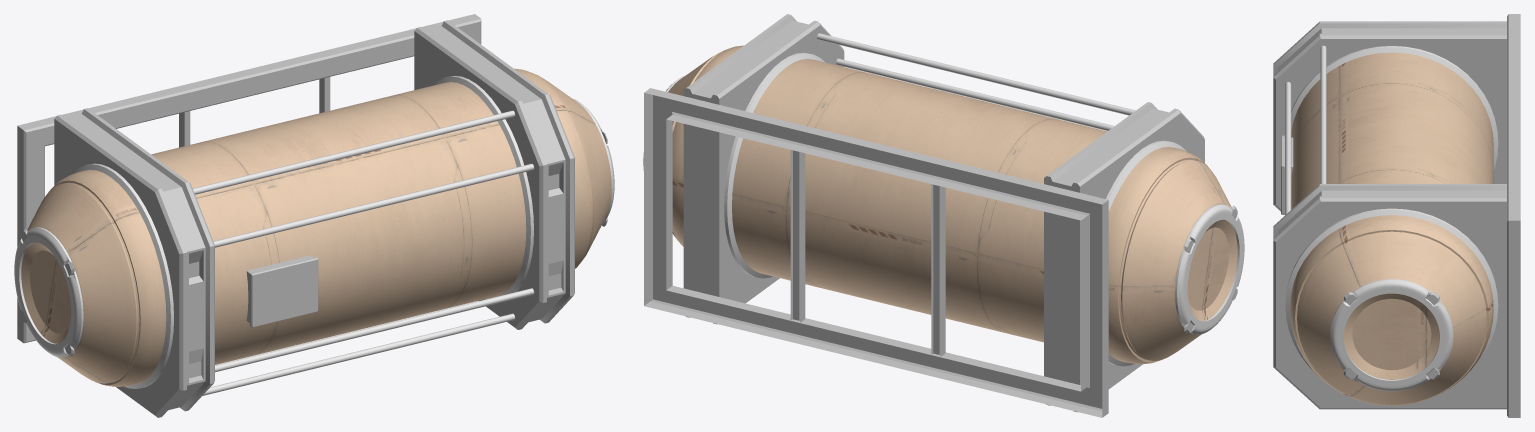
Rendered from KB3D_CBP_WaterTank_B.fbx.
The picture shows the model from 3 angles, left to right: view 1: azimuth 30°, elevation 25°; view 2: azimuth 150°, elevation 25°; view 3: azimuth 270°, elevation 25°; orthographic projection. The views are drawn at different scales.
Parts seen in each view (by area): view 1: KB3D_CBP_WaterTank_B_Main; view 2: KB3D_CBP_WaterTank_B_Main; view 3: KB3D_CBP_WaterTank_B_Main.
Boxes of the visible parts, box(x1,y1,x2,y2) form: KB3D_CBP_WaterTank_B_Main: box(14, 14, 614, 417); KB3D_CBP_WaterTank_B_Main: box(643, 14, 1244, 417); KB3D_CBP_WaterTank_B_Main: box(1273, 14, 1520, 417).
Size of the model in its own units: 834 by 338 by 359.
